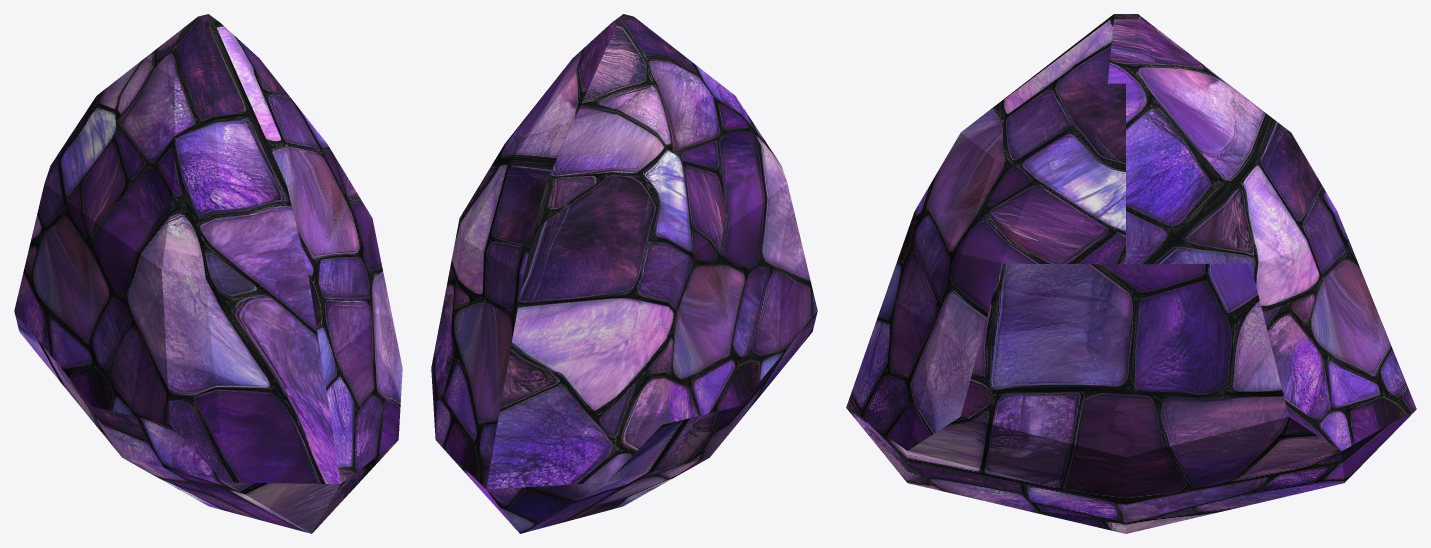
The model's file is gemstone5Purple.glb.
3 views of the same model, side by side, from view 1: azimuth 30°, elevation 25°; view 2: azimuth 150°, elevation 25°; view 3: azimuth 270°, elevation 25° (orthographic). The views are drawn at different scales.
Visible parts, largest first — view 1: gemstone4; view 2: gemstone4; view 3: gemstone4.
Part boxes in pixels (bbox=[...]): gemstone4: bbox=[14, 14, 402, 533]; gemstone4: bbox=[431, 14, 817, 533]; gemstone4: bbox=[846, 14, 1416, 533].
Bounding box in the file's own units: 0.5 × 1 × 1.
Materials: 1 (1 with a texture image).
